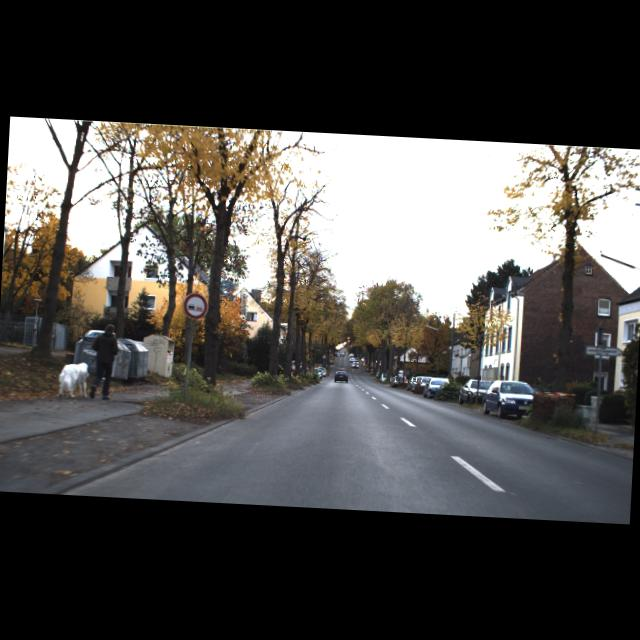prohibitory: (182, 292, 208, 319)
